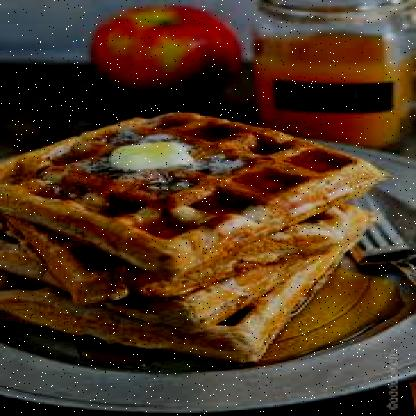apple: (91, 3, 245, 101)
